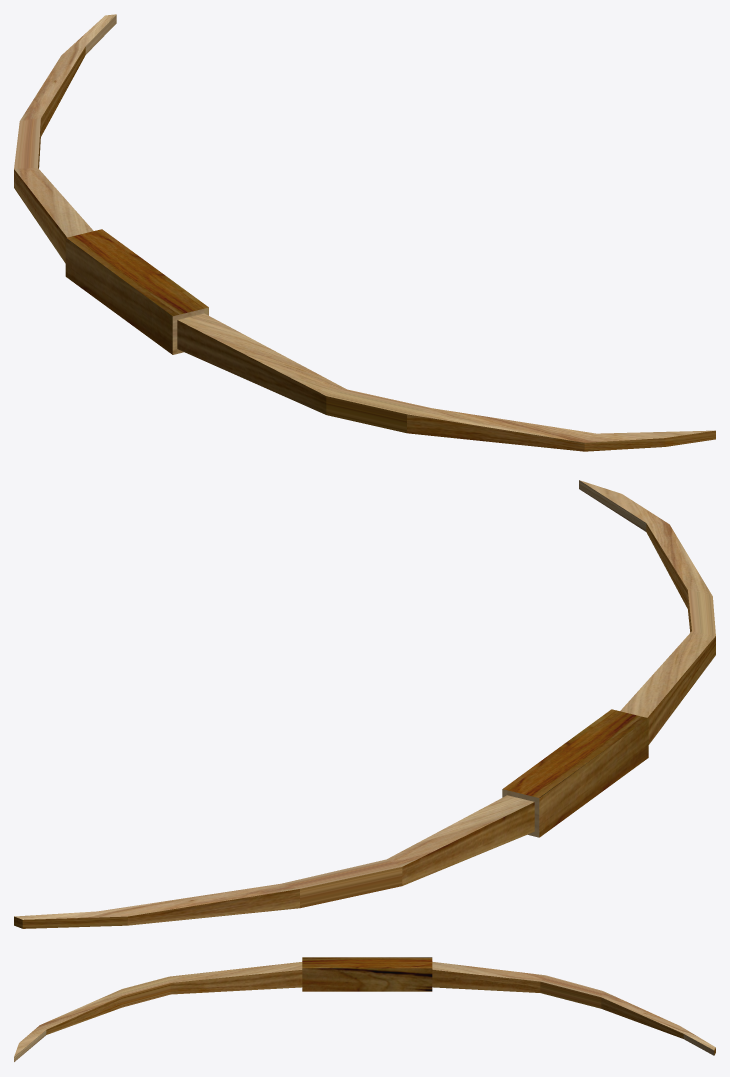
File: bow_3.obj
3 renders of one model, top to bottom at view 1: azimuth 30°, elevation 25°; view 2: azimuth 150°, elevation 25°; view 3: azimuth 270°, elevation 25°, orthographic. The views are drawn at different scales.
Parts seen in each view (by area): view 1: Cube; view 2: Cube; view 3: Cube.
Part boxes in pixels (bbox=[...]): Cube: bbox=[14, 14, 715, 451]; Cube: bbox=[14, 480, 715, 928]; Cube: bbox=[14, 957, 715, 1061].
Size of the model in its own units: 0.6598 by 0.08 by 2.16.
Materials: 1 (1 with a texture image).
